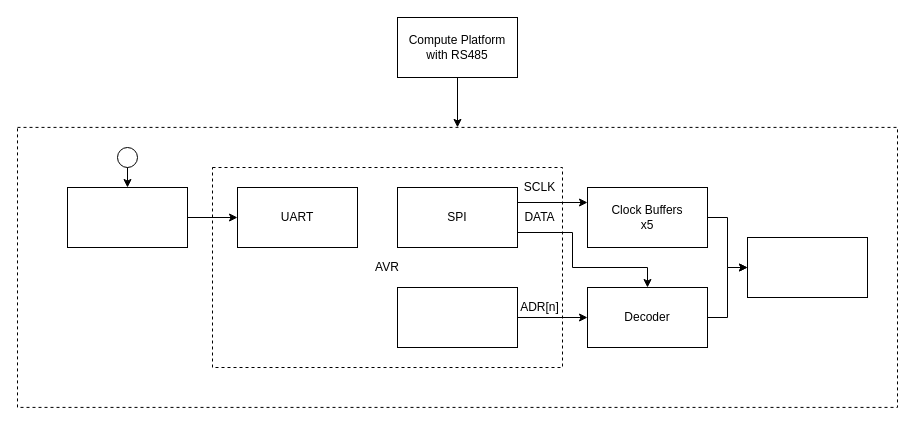
This 915x425 diagram has some shape labels left out. Each missing label, with the centre of its shape:
Address Lines xN: (457,317)
Connectors x18: (807,267)
RS485 Receiver: (127,217)
